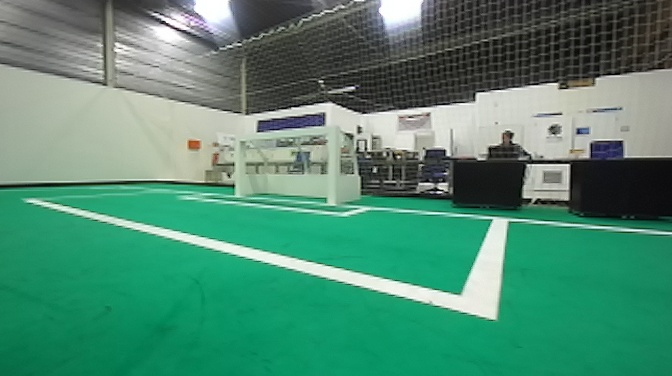goalpost: (323, 124, 344, 211), (233, 135, 247, 196)
